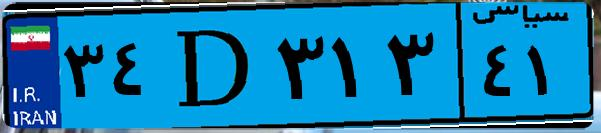1: (330, 28, 385, 110), (525, 38, 570, 115)
3: (270, 28, 330, 110), (385, 28, 445, 110), (57, 26, 110, 100)
4: (475, 38, 525, 113), (110, 28, 158, 98)
D: (158, 12, 270, 120)
